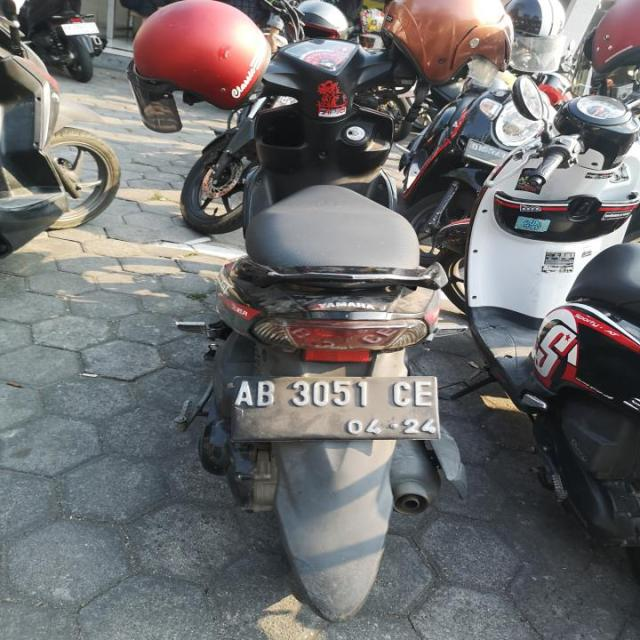License Plate: (229, 371, 443, 445)
